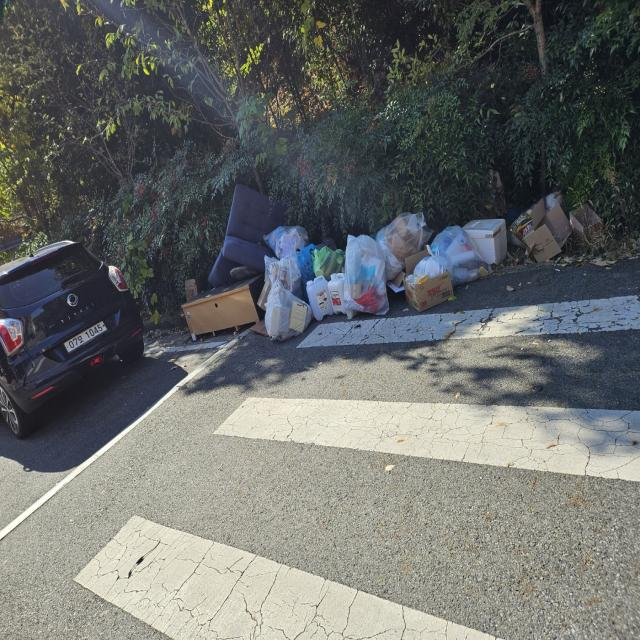General Waste: (260, 225, 392, 334), (379, 216, 508, 306), (510, 191, 604, 257)
Large Waste Items: (216, 186, 287, 286), (186, 281, 268, 335)
